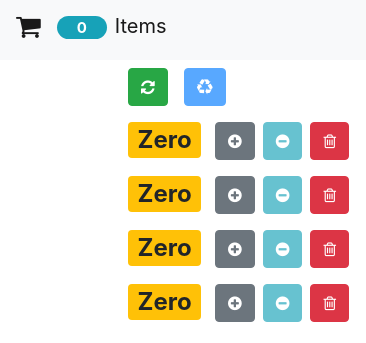
Test case: CounterApp › Verify Functionality Of Refresh Button
This screenshot has width=366, height=343.
Click the 1st icon with test id "plusButton" at (235, 141), box left=228, top=133, right=242, bottom=149
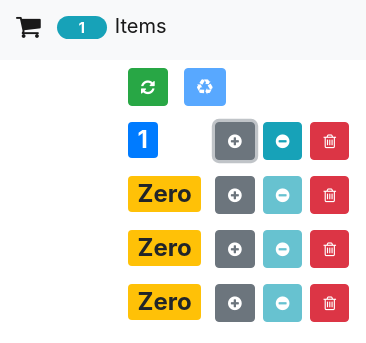
Click the 4th icon with test id "plusButton" at (235, 303), box left=228, top=295, right=242, bottom=311
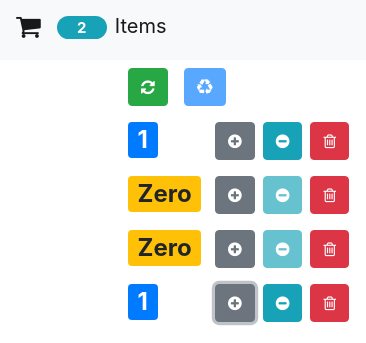
expect the text with test id "counter" reads "2": met, box left=57, top=16, right=107, bottom=39
Click the icon with test id "refreshButton" at (148, 87), box left=141, top=79, right=155, bottom=95
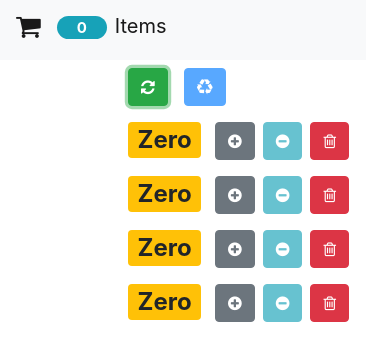
expect the text with test id "counter" reads "0": met, box left=57, top=16, right=107, bottom=39
